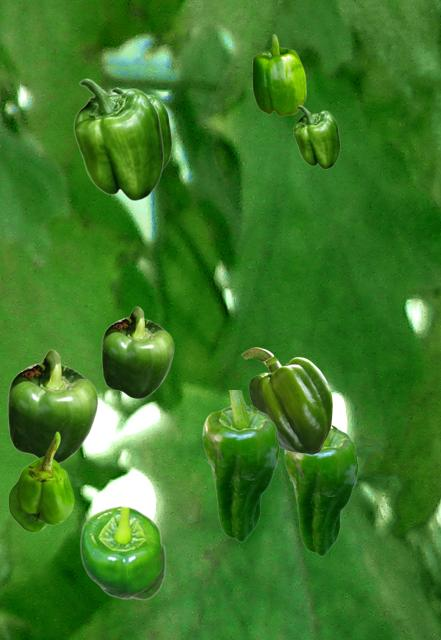bell_pepper: (202, 390, 278, 541), (73, 78, 163, 200), (7, 349, 97, 463), (284, 424, 357, 555), (241, 347, 331, 453), (79, 505, 165, 599), (101, 306, 173, 398), (8, 431, 73, 531), (111, 87, 171, 170), (252, 34, 305, 115), (293, 105, 339, 168)
